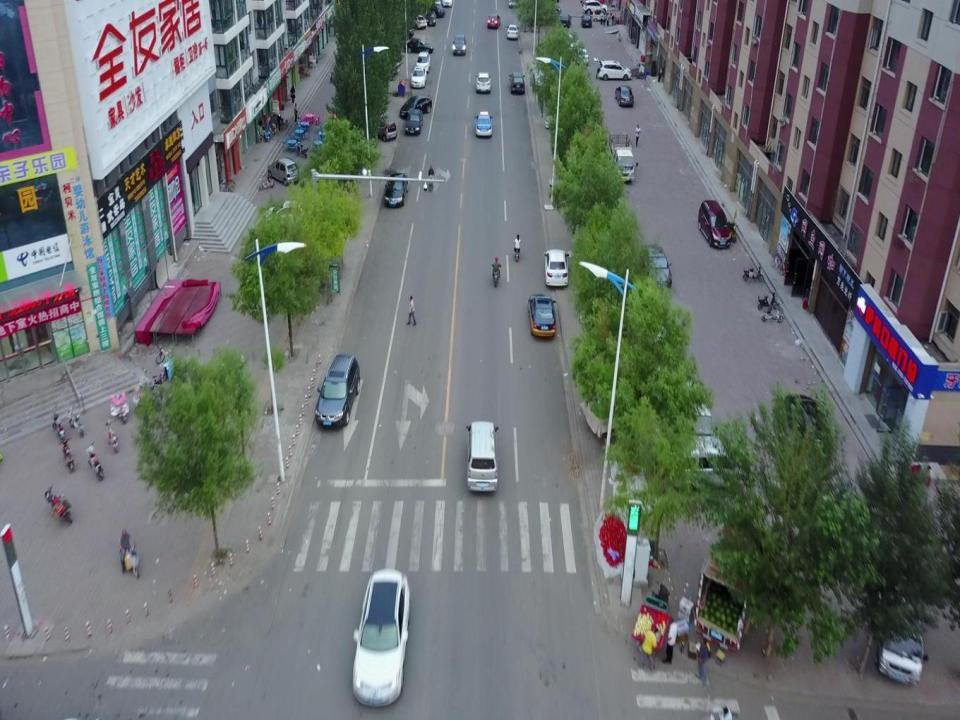car: (352, 570, 410, 707), (785, 392, 832, 456), (641, 244, 672, 289), (528, 294, 556, 337), (383, 173, 409, 208), (544, 250, 569, 286), (268, 157, 300, 185), (593, 58, 632, 80), (369, 114, 398, 141), (400, 96, 432, 118), (405, 109, 423, 137), (474, 111, 493, 137), (403, 38, 433, 54), (615, 85, 634, 105), (583, 0, 607, 15), (572, 46, 589, 66), (509, 73, 525, 94), (410, 66, 426, 87), (405, 13, 427, 28), (415, 52, 431, 72), (476, 72, 491, 93), (423, 4, 446, 17), (452, 34, 466, 54), (487, 14, 501, 28), (507, 25, 519, 40), (426, 12, 436, 26), (581, 13, 591, 27)
truck: (693, 508, 774, 652), (609, 132, 638, 182)
van: (872, 584, 927, 685), (668, 439, 742, 491), (314, 353, 361, 428), (676, 380, 716, 440), (467, 421, 499, 493), (698, 200, 730, 248), (559, 13, 573, 27)
